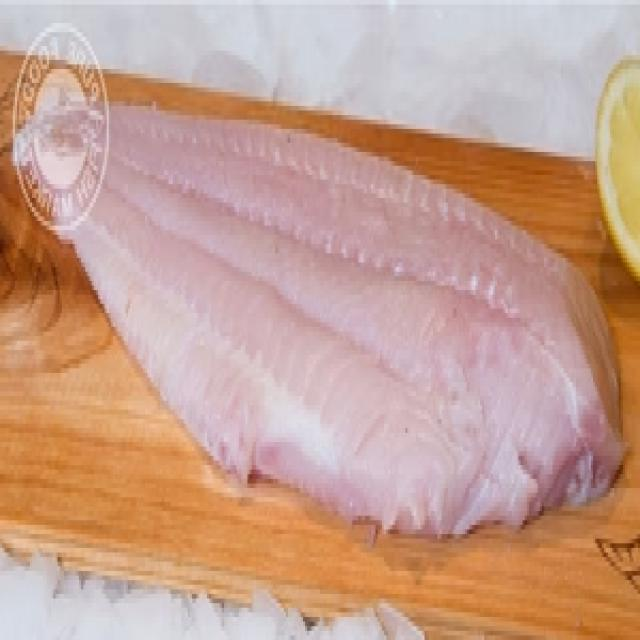Catfish: (19, 90, 623, 542)
lemon: (598, 53, 640, 281)
